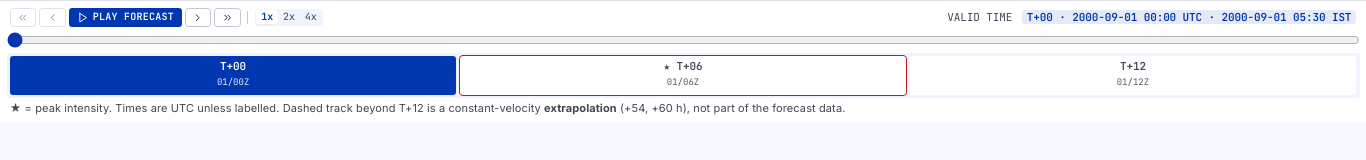
Test: TimelineBar (forecast time machine) › step, direct selection and slider all drive the same store
Click the button named "Step forward" at (198, 17), box top-left (185, 8), bottom-right (211, 27)
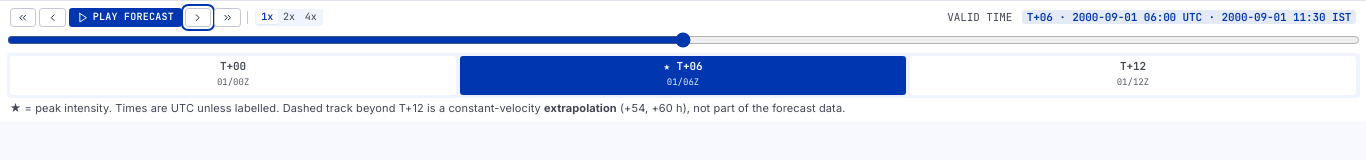
Click the button "T+12 01/12Z" at (1133, 75), box top-left (910, 56), bottom-right (1356, 94)
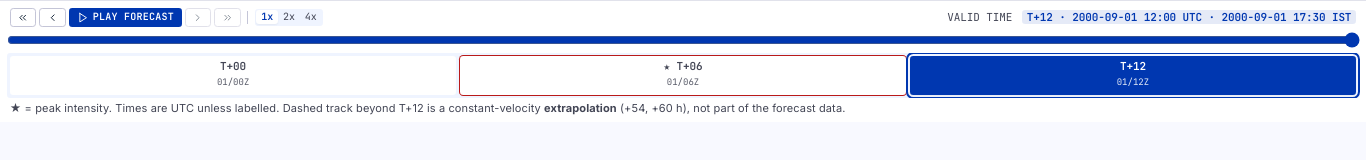
Now the button named "Step forward" is disabled, box top-left (185, 8), bottom-right (211, 27)
Set the slider named "Forecast lead time" to "0" at (14, 40), box top-left (6, 32), bottom-right (1360, 48)
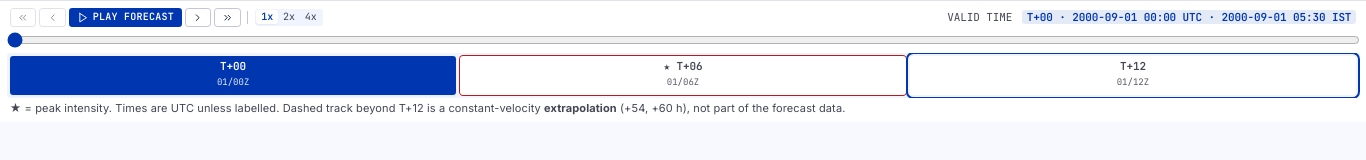
Now the button named "Step back" is disabled, box top-left (39, 8), bottom-right (66, 27)
